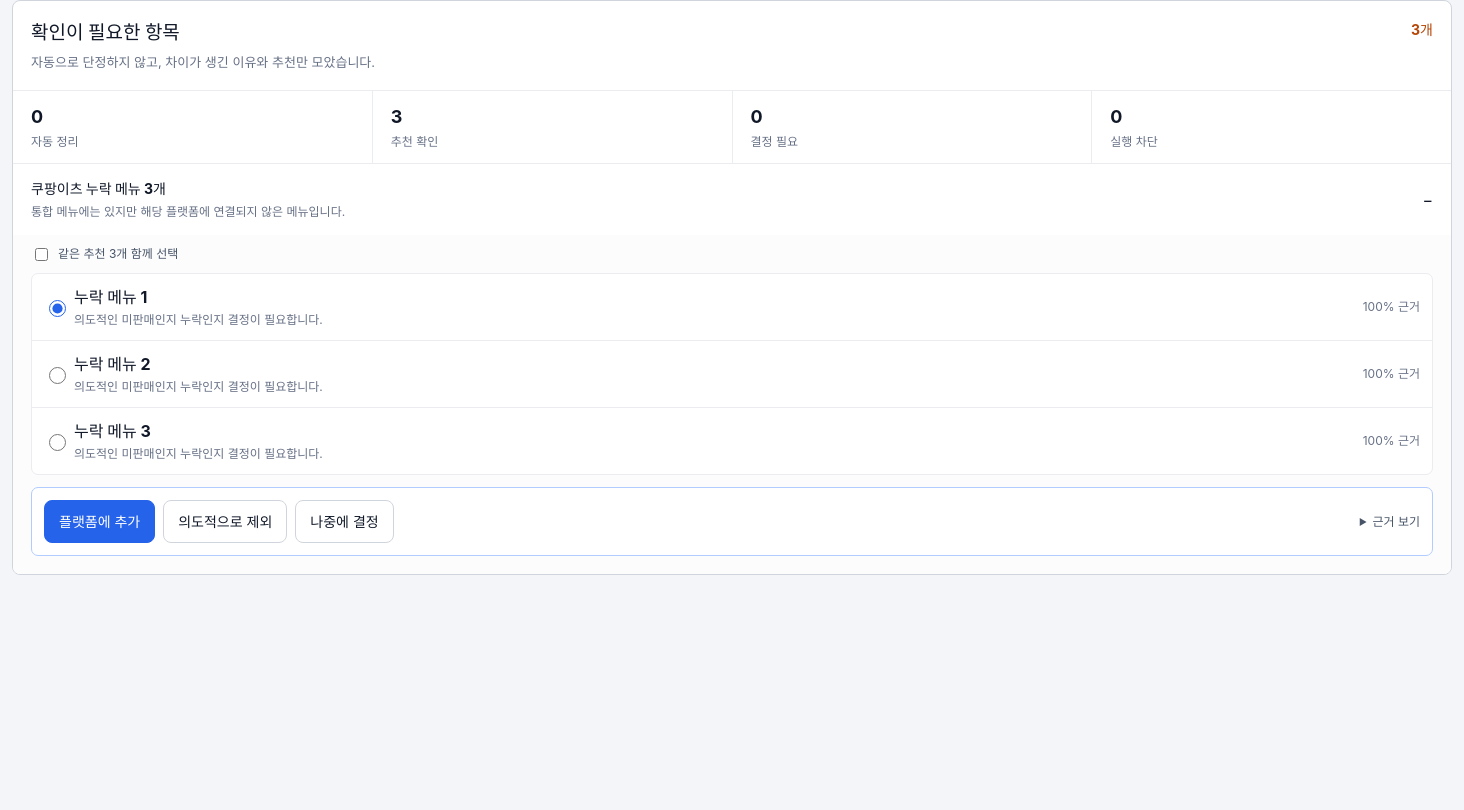
Test: ReviewInboxPanel › resolves a group together only when the selected recommendations match
Click the checkbox named "쿠팡이츠 누락 메뉴 모두 선택": (42, 254) [35,248,48,260]
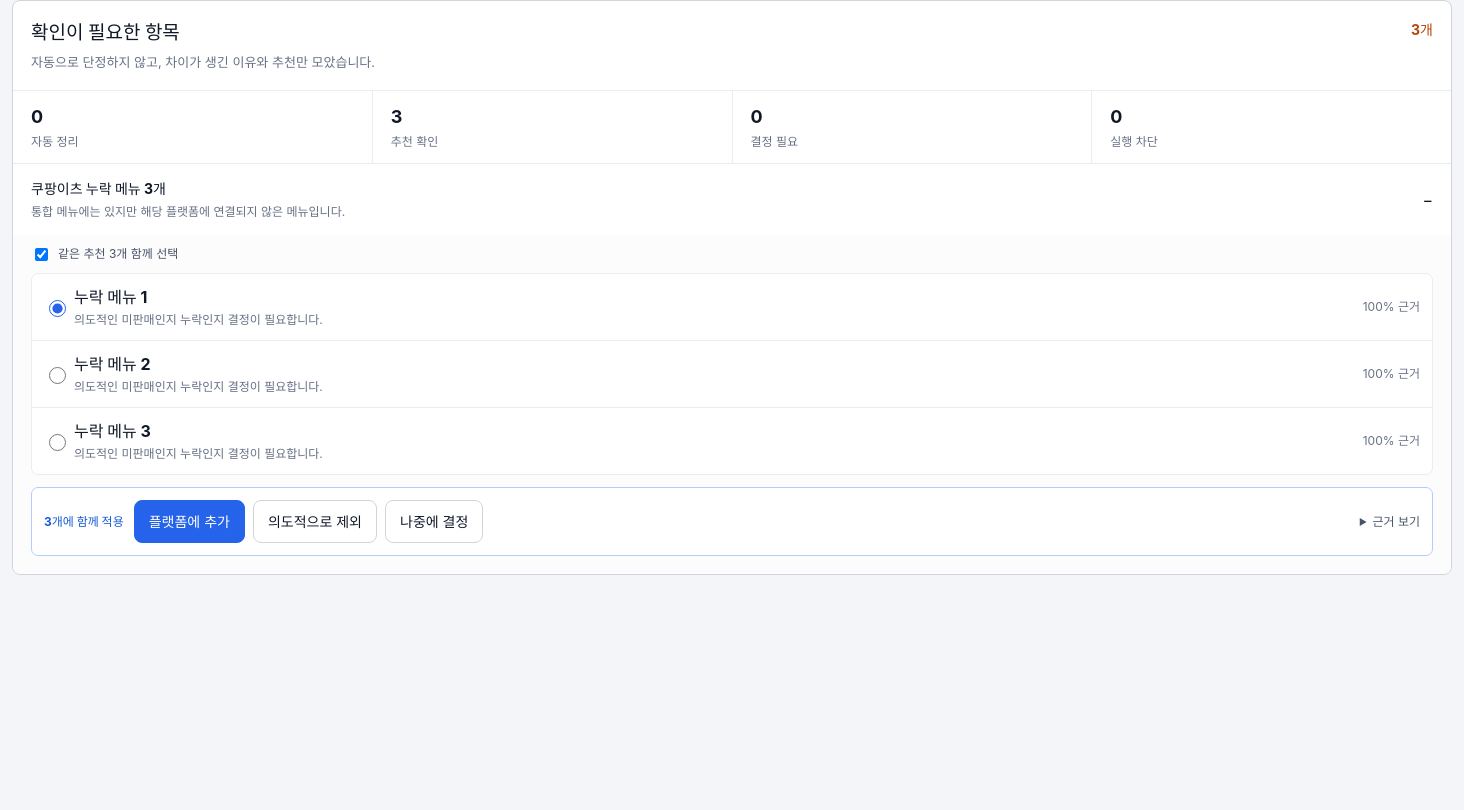
Click the button "의도적으로 제외": (315, 522) [253,500,377,543]
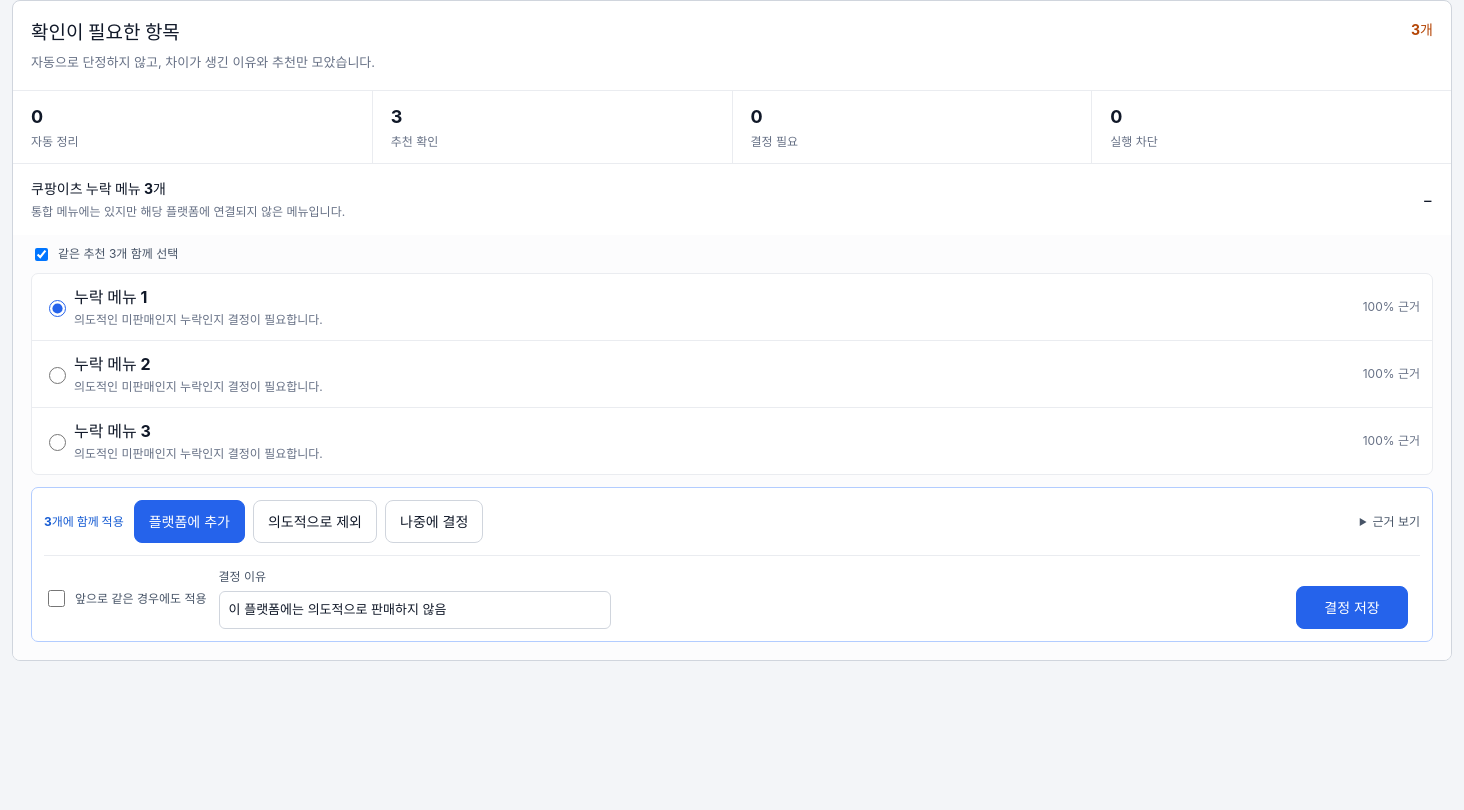
Click the button "결정 저장": (1352, 608) [1296,586,1408,629]
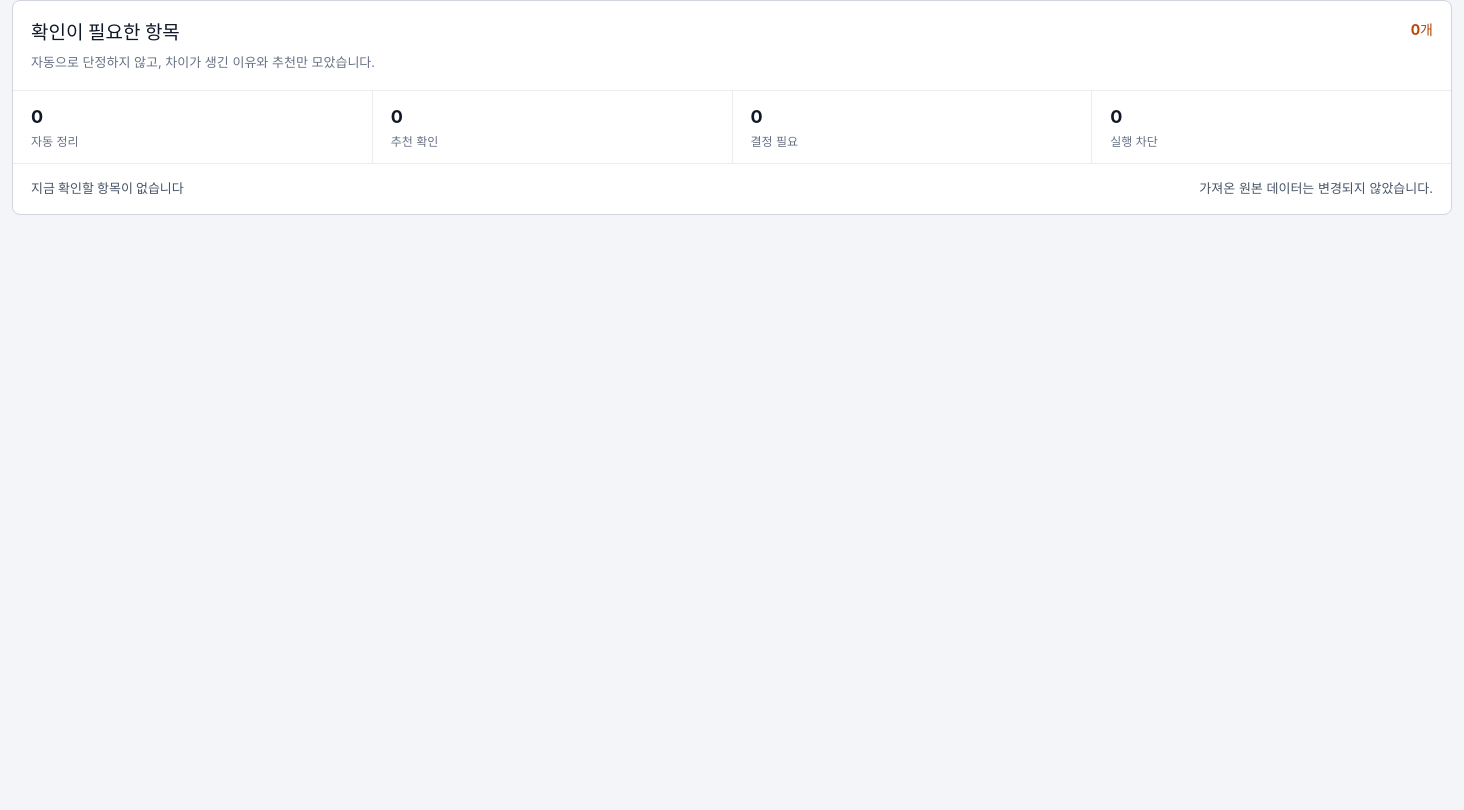
Expected: the button "쿠팡이츠 누락 메뉴 3개" is gone
